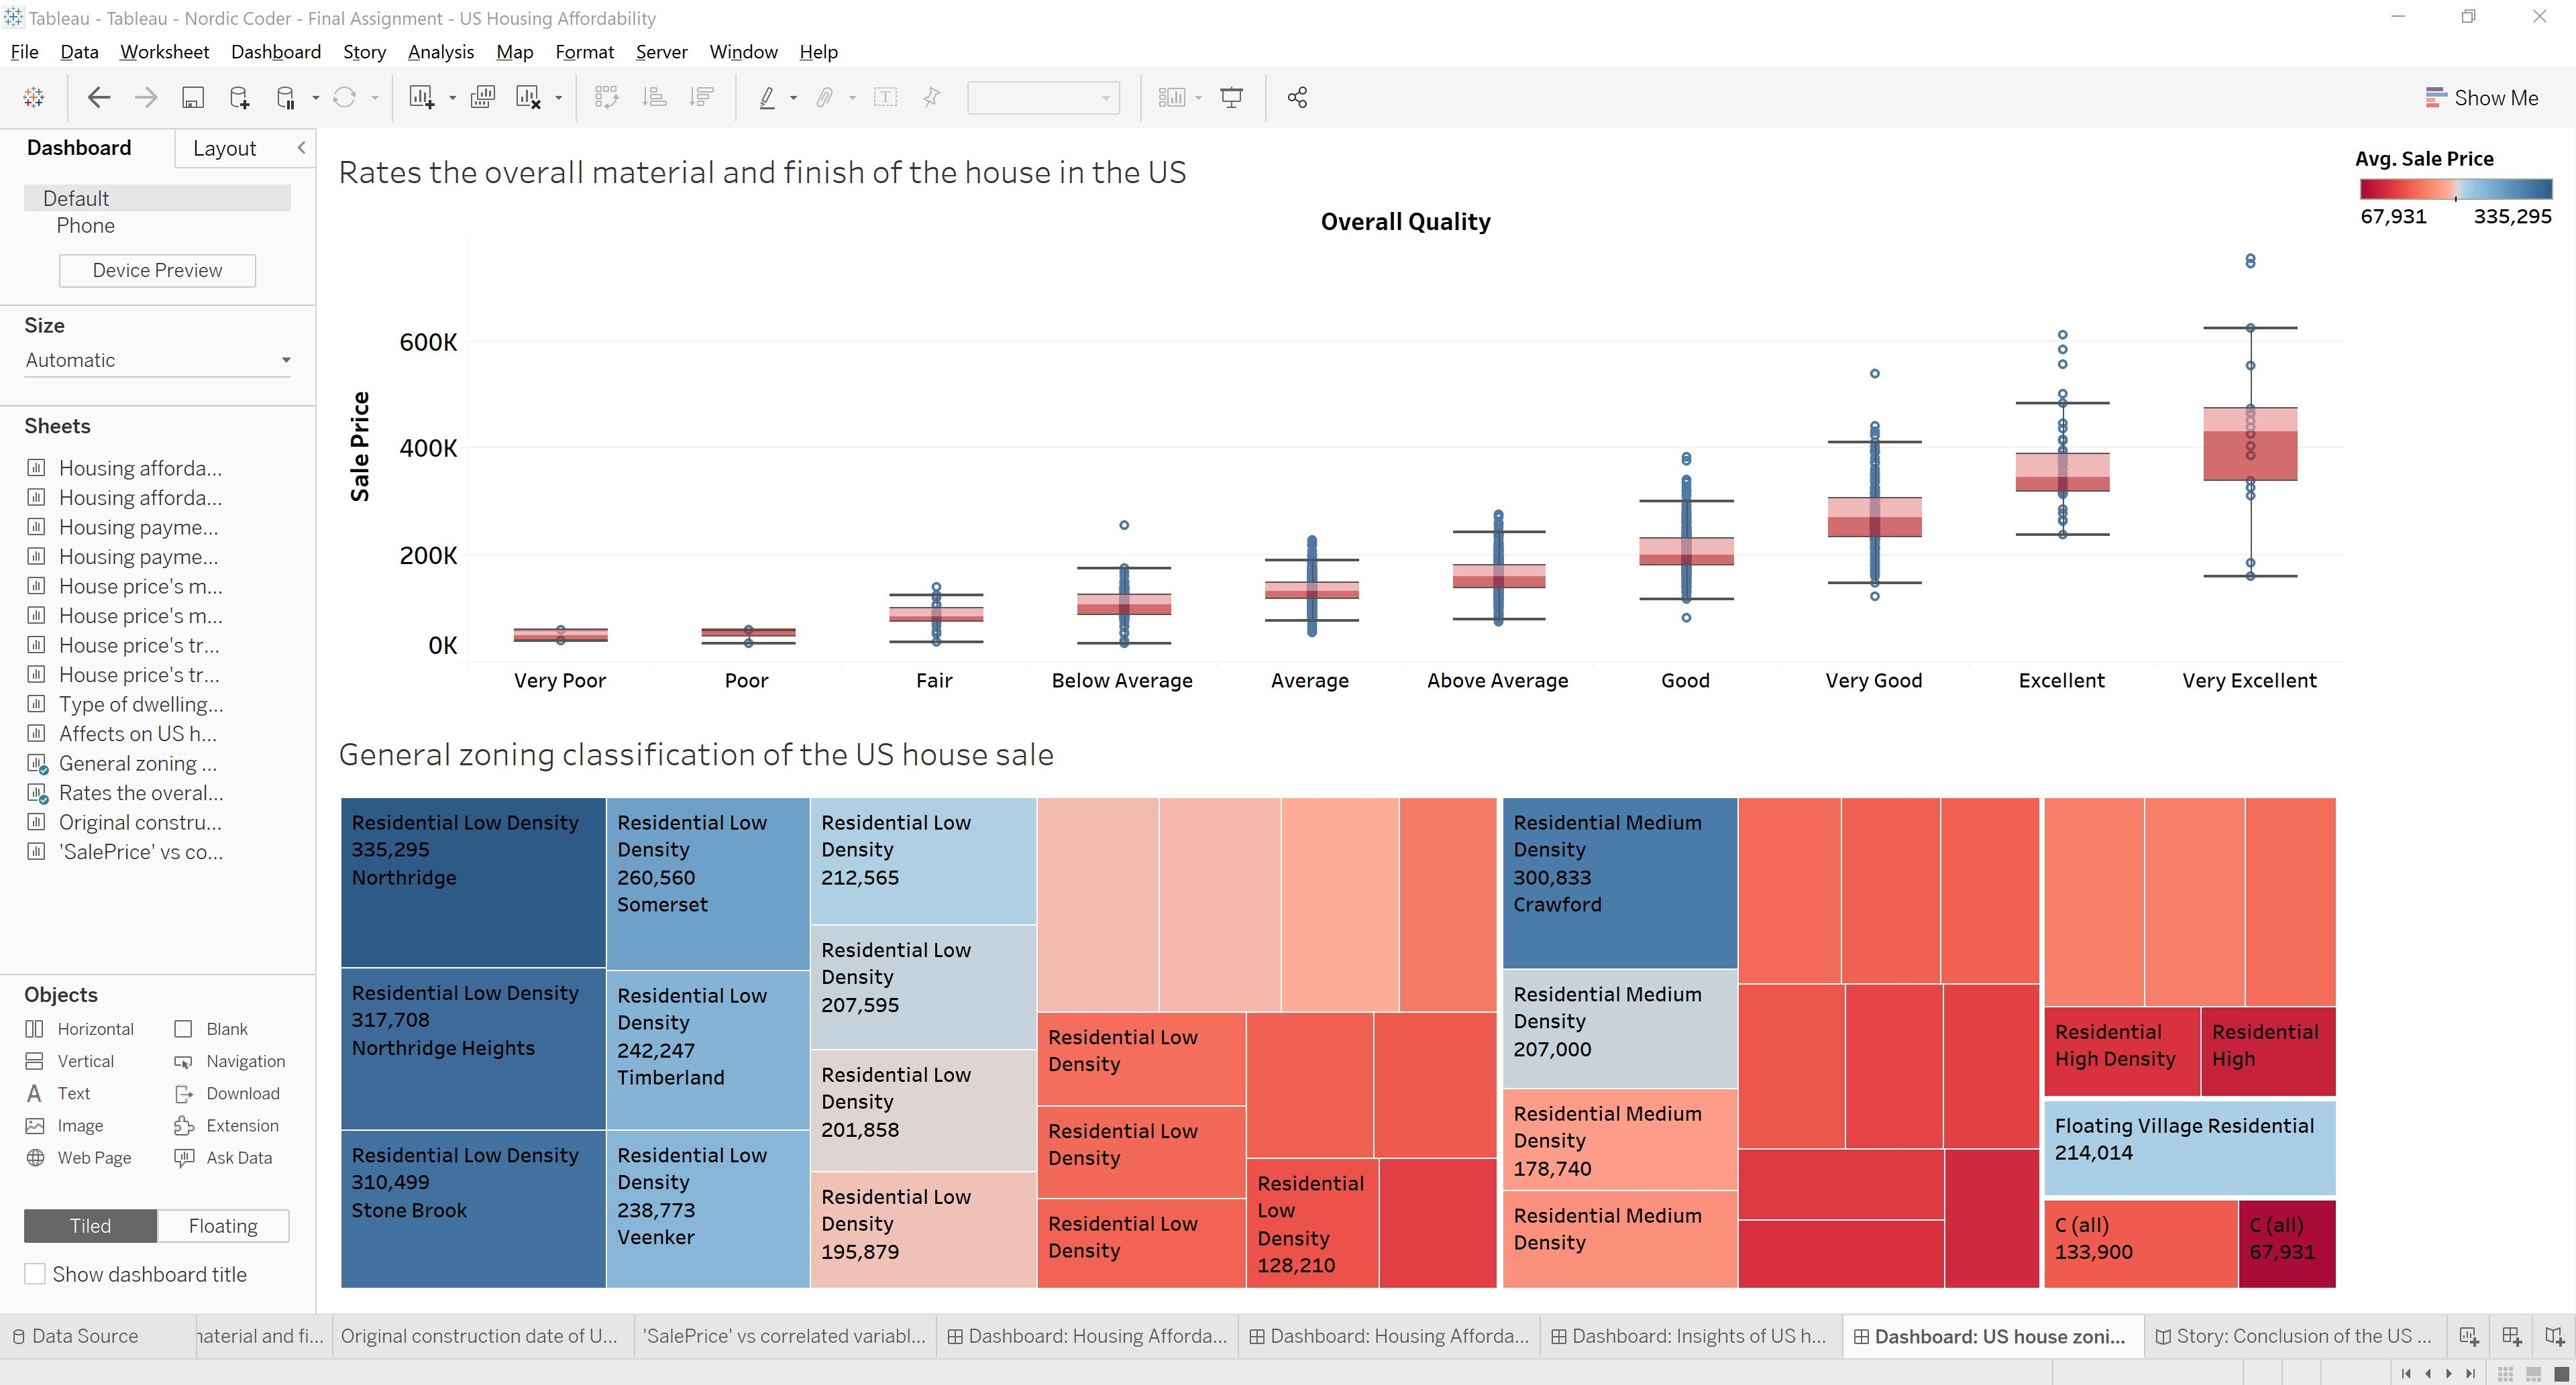

This screenshot's page, from the dashboard's own definition file:
{"tool":"tableau","page":{"name":"Dashboard: US house zonings & rates","canvas":[1000,1000],"units":"permille","ordinal":3},"visuals":[{"type":"worksheet","title":"Rates the overall material and finish of the house in the US","mark":"Automatic","rows":["SalePrice"],"cols":["OverallQual"],"box":[4.8,9.1,895.4,490.9]},{"type":"legend","title":"General zoning classification of the US house sale","param":"[federated.0mtpgnv0v9jcej1em37h80tl5cxx].[avg:SalePrice:qk]","box":[900.2,9.1,95.1,82.7]},{"type":"worksheet","title":"General zoning classification of the US house sale","mark":"Automatic","box":[4.8,500,895.4,490.9]}]}

Visuals, with their boxes on the dashboard's canvas, which has no fixed pixel size, in thousandths of its width and height (x1, y1, x2, y2). These are canvas units, not pixel positions in the 2576x1385 screenshot, which may show the page scaled, cropped or inside an application window:
"Rates the overall material and finish of the house in the US" worksheet: 5 9 900 500
"General zoning classification of the US house sale" legend: 900 9 995 92
"General zoning classification of the US house sale" worksheet: 5 500 900 991
